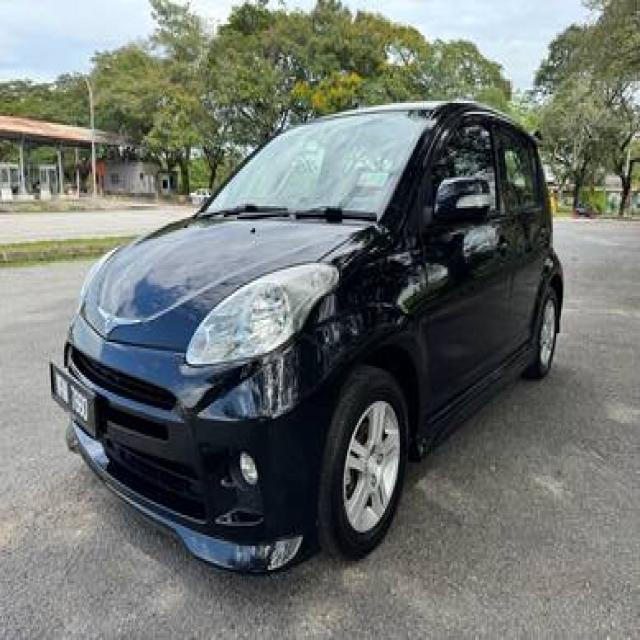PeroduaMyvi: (48, 96, 564, 576)
